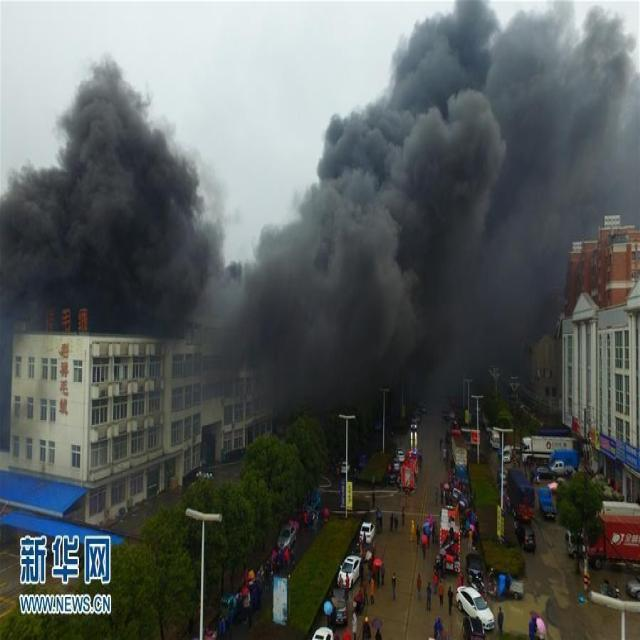Smoke: (201, 6, 640, 422), (0, 57, 211, 334), (0, 332, 9, 436)
